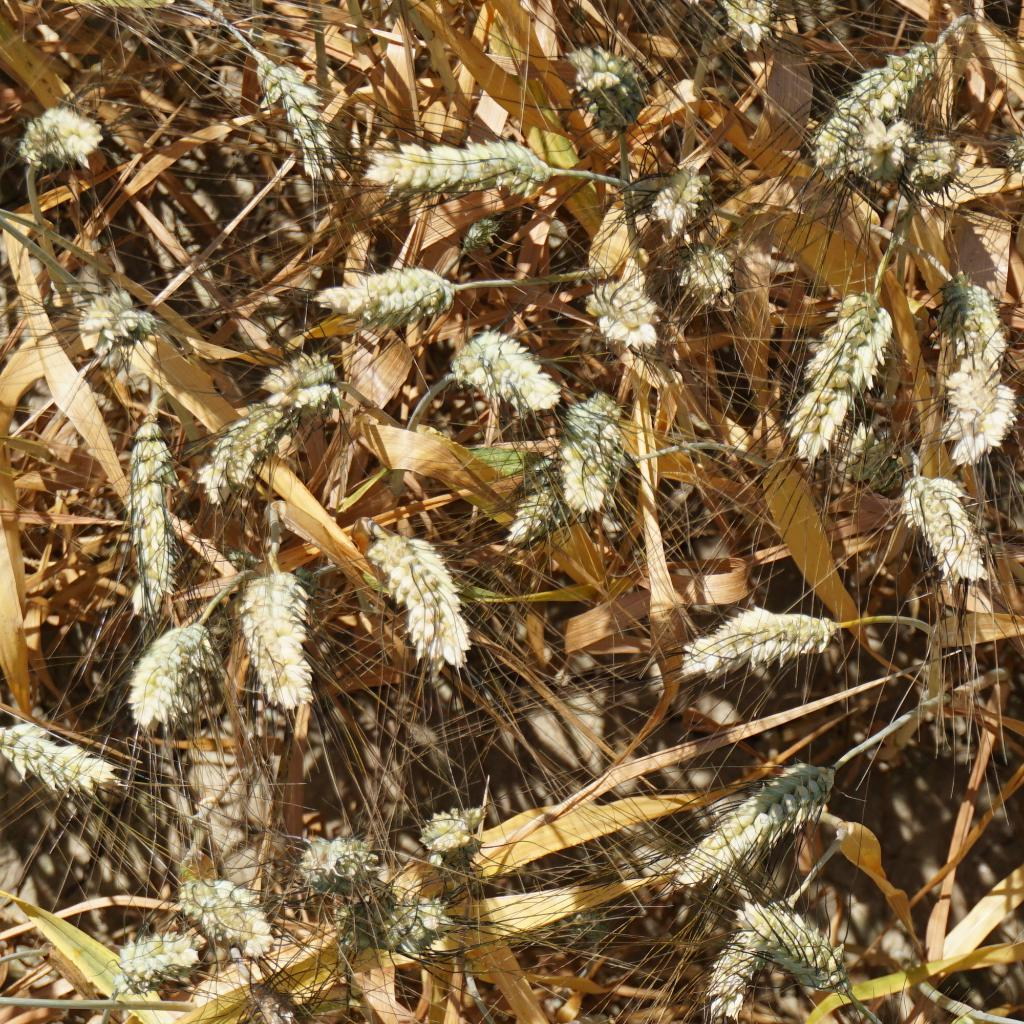0-0: (771, 269, 902, 471), (679, 756, 830, 874), (362, 120, 543, 208), (800, 58, 909, 193), (665, 584, 835, 669), (381, 527, 476, 677), (244, 41, 338, 188), (199, 372, 297, 508), (120, 423, 185, 622), (234, 565, 321, 712), (454, 313, 570, 423), (0, 714, 123, 817), (66, 274, 172, 374), (742, 896, 850, 994), (313, 251, 454, 326), (567, 30, 663, 135), (553, 391, 632, 512), (937, 355, 1014, 478), (900, 476, 986, 586), (128, 628, 210, 734), (15, 92, 110, 181), (179, 866, 263, 954), (116, 917, 206, 992), (592, 271, 669, 358), (251, 344, 338, 415), (331, 884, 402, 969), (295, 823, 376, 893), (500, 458, 553, 560), (709, 907, 754, 1024), (671, 234, 740, 307), (931, 287, 998, 358), (644, 153, 712, 222), (379, 884, 446, 947), (709, 0, 781, 53), (909, 139, 965, 206), (243, 980, 317, 1024), (419, 801, 472, 850), (1000, 114, 1024, 182)
